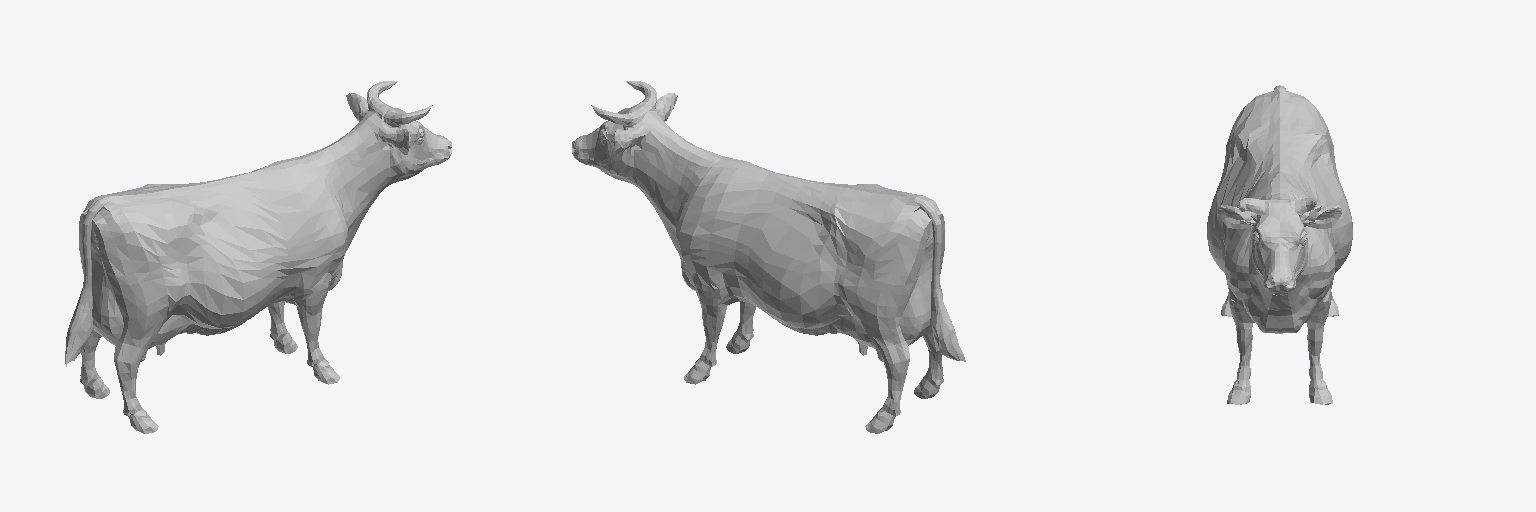
Rendered from cow.obj.
3 views of the same model, side by side, from view 1: azimuth 30°, elevation 25°; view 2: azimuth 150°, elevation 25°; view 3: azimuth 270°, elevation 25° (orthographic).
Visible parts, largest first — view 1: polySurface7; view 2: polySurface7; view 3: polySurface7.
Boxes of the visible parts, <box> form: polySurface7: <box>65,81,451,433</box>; polySurface7: <box>572,81,965,433</box>; polySurface7: <box>1207,85,1352,404</box>.
Size of the model in its own units: 1.64 by 1.01 by 0.5354.